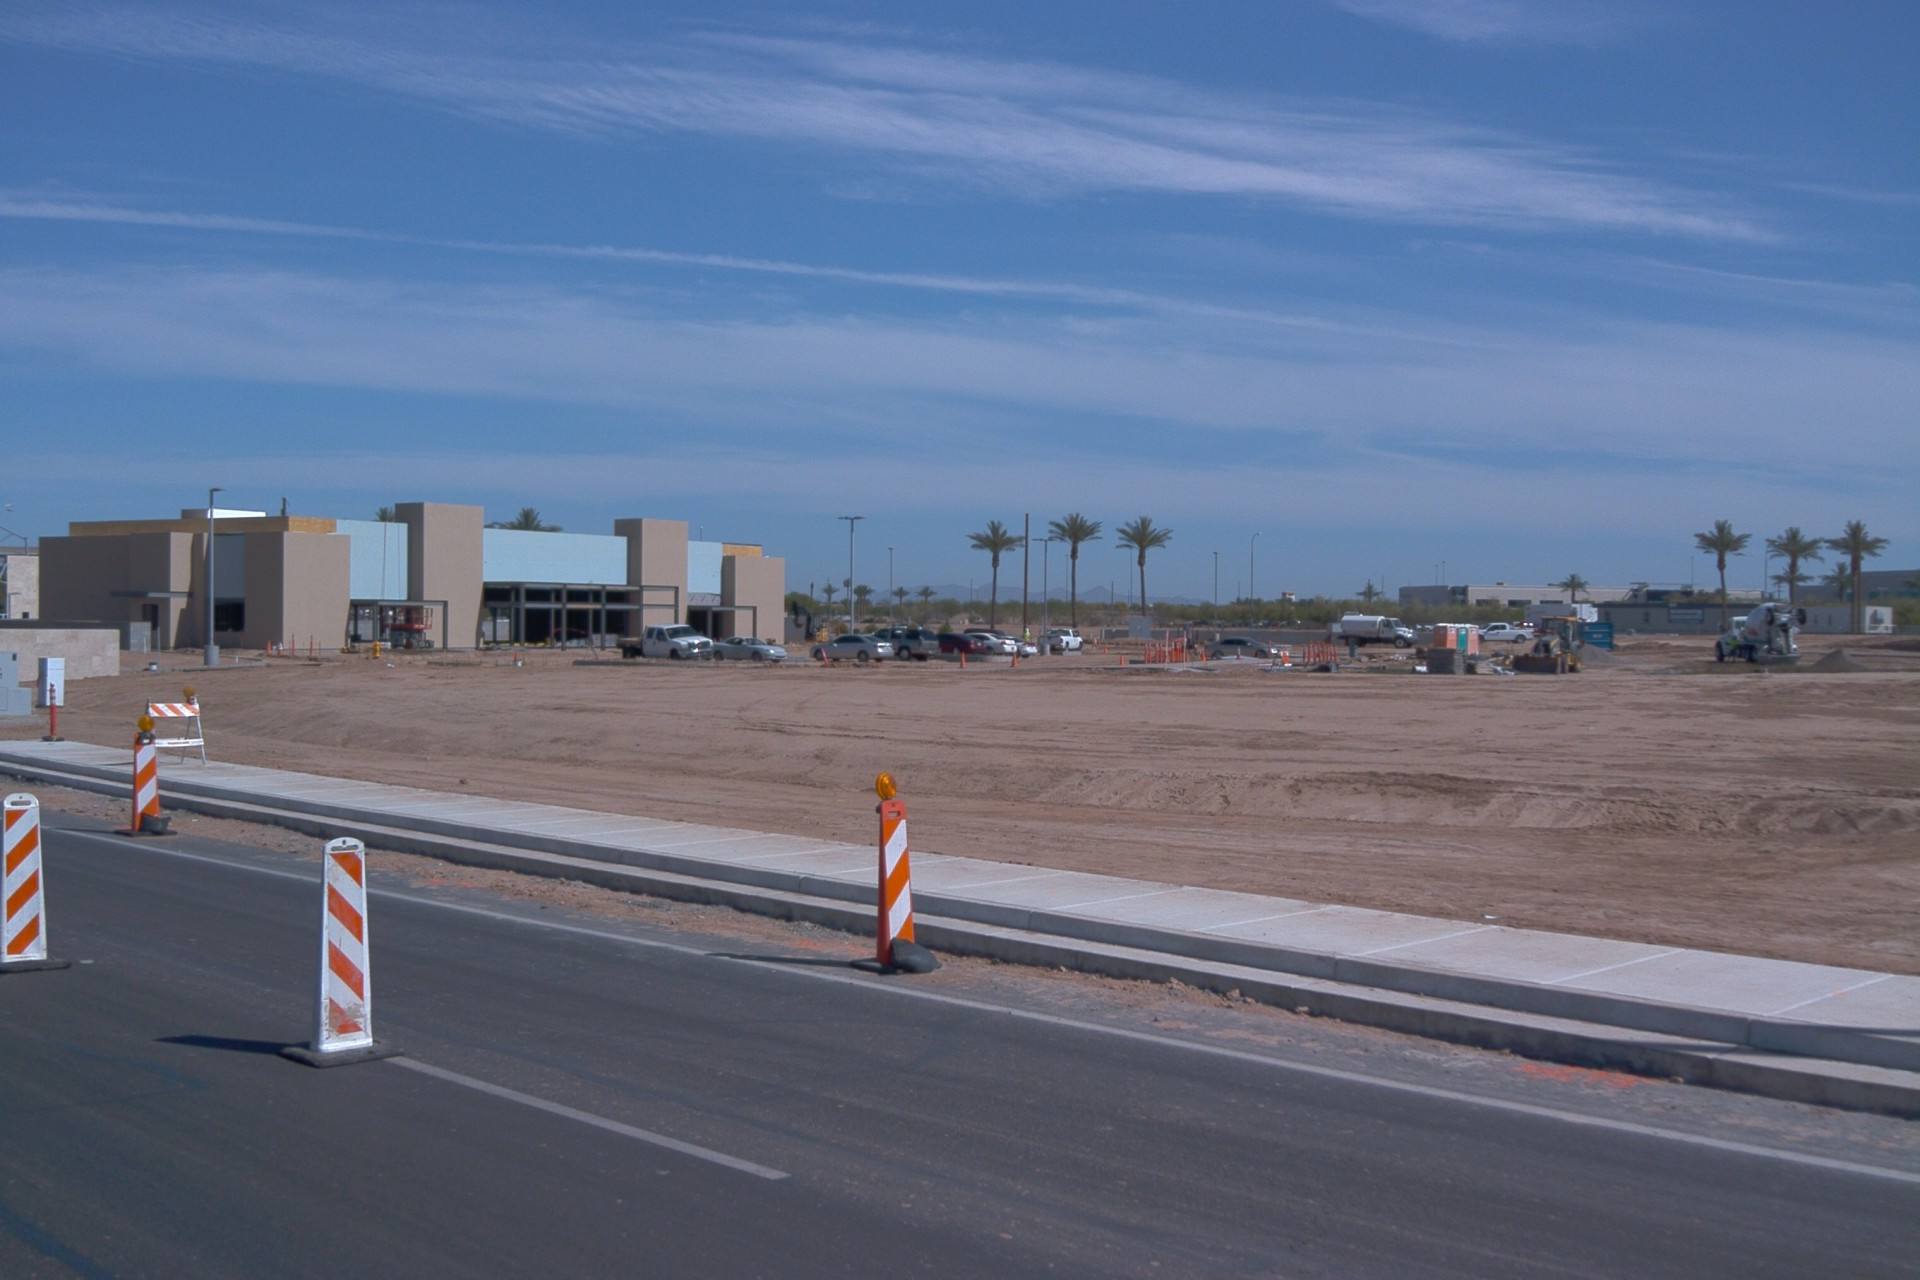TYPE_PEDESTRIAN: (1727, 633, 1744, 663), (1021, 624, 1033, 645), (1046, 626, 1053, 636)
TYPE_VEHICLE: (1711, 604, 1805, 668), (1508, 612, 1584, 674), (615, 620, 719, 661), (867, 619, 943, 662), (1338, 614, 1417, 655), (808, 632, 896, 663), (934, 625, 990, 658), (710, 634, 787, 658), (1200, 635, 1284, 657), (963, 631, 1018, 655), (1036, 627, 1086, 653), (1477, 625, 1534, 647), (998, 633, 1039, 657), (381, 605, 405, 621), (960, 632, 1008, 640), (887, 626, 909, 631), (1421, 624, 1435, 631), (1416, 622, 1423, 631), (0, 614, 7, 620)
